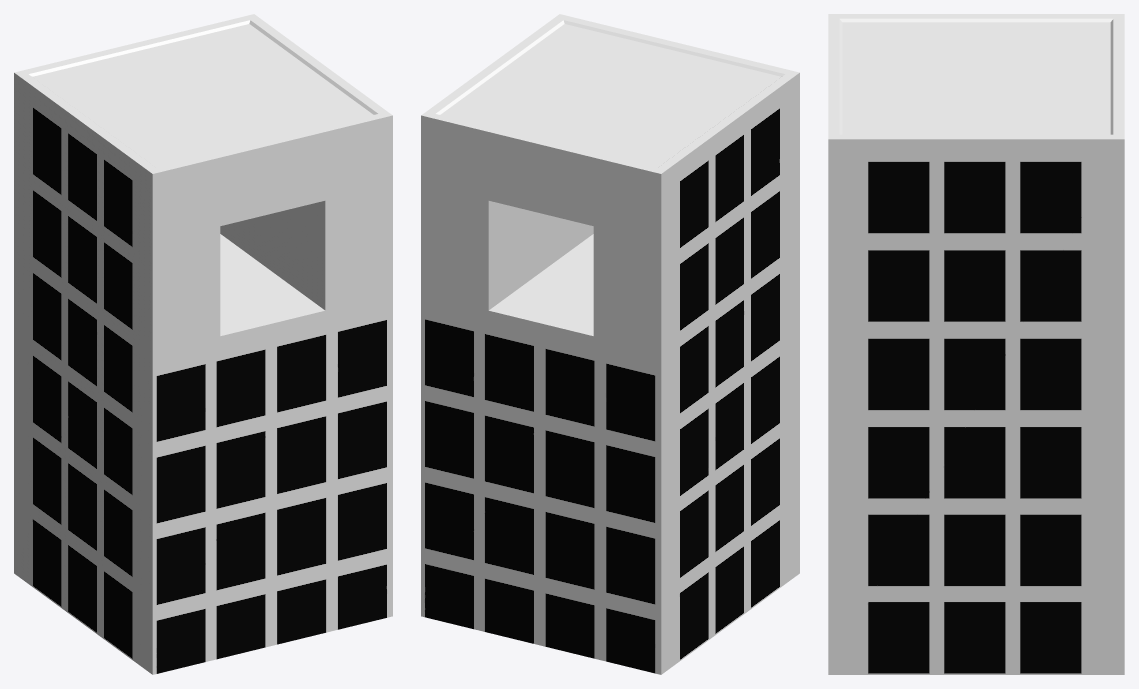
Rendered from Building03.fbx.
3 views of the same model, side by side, from view 1: azimuth 30°, elevation 25°; view 2: azimuth 150°, elevation 25°; view 3: azimuth 270°, elevation 25° (orthographic). The views are drawn at different scales.
Visible parts, largest first — view 1: Cube.018; view 2: Cube.018; view 3: Cube.018.
Boxes of the visible parts, box(x1,y1,x2,y2) form: Cube.018: box(14, 14, 392, 674); Cube.018: box(421, 14, 799, 674); Cube.018: box(828, 14, 1124, 674).
Size of the model in its own units: 2291 by 4567 by 2291.
